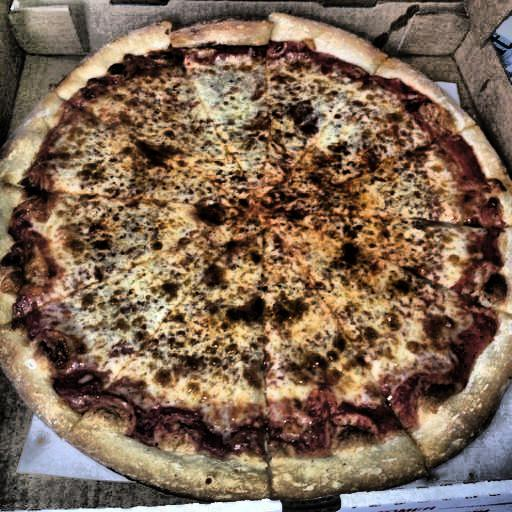pizza: (2, 31, 512, 512)
